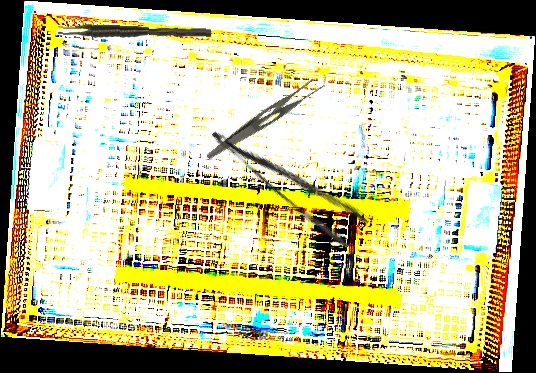Dressing Forceps: (209, 106, 371, 252), (205, 70, 327, 172)
Tissue Forceps: (57, 23, 212, 42)
